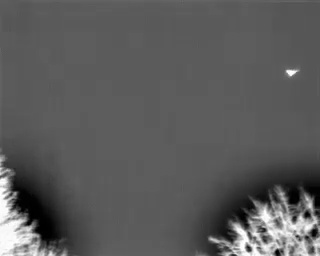BIRD: (283, 65, 302, 80)
